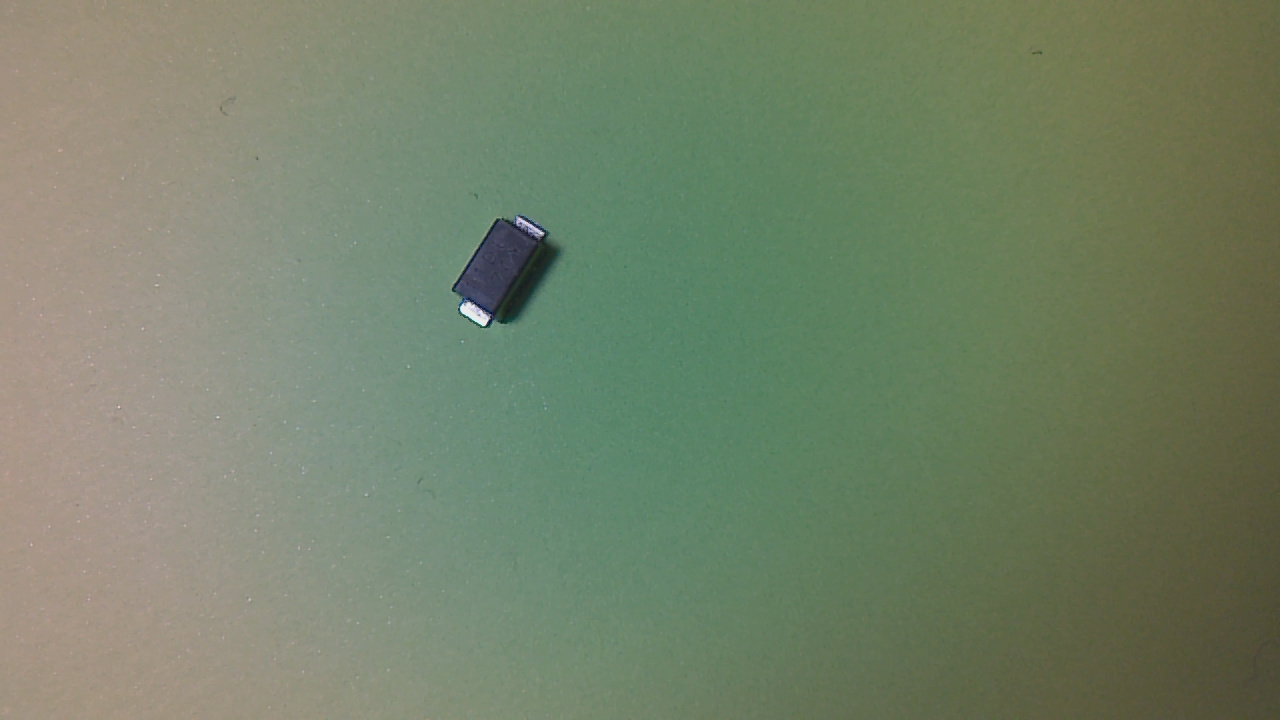Diode: (453, 216, 562, 338)
